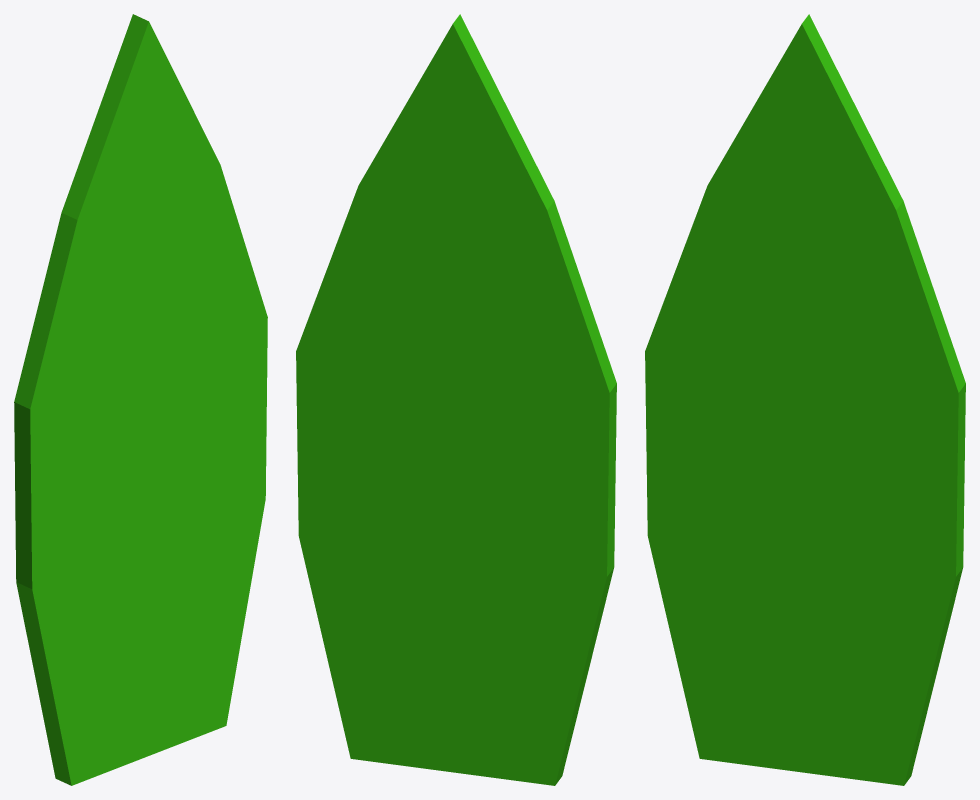
Rendered from Rigged Grass Export 44.fbx.
The picture shows the model from 3 angles, left to right: view 1: azimuth 30°, elevation 25°; view 2: azimuth 150°, elevation 25°; view 3: azimuth 330°, elevation 25°; orthographic projection.
Parts seen in each view (by area): view 1: Grass 3 Left Left 1; view 2: Grass 3 Left Left 1; view 3: Grass 3 Left Left 1.
Boxes of the visible parts, x1=… form: Grass 3 Left Left 1: x1=14, y1=14, x2=267, y2=785; Grass 3 Left Left 1: x1=296, y1=14, x2=616, y2=785; Grass 3 Left Left 1: x1=645, y1=14, x2=965, y2=785.
Bounding box in the file's own units: 133 × 338 × 38.87.
